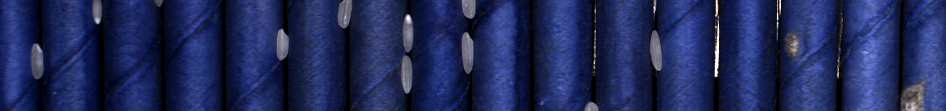broken_grain: (89, 1, 105, 25), (459, 1, 479, 20)
complete_grain: (647, 27, 666, 74), (459, 30, 475, 77), (400, 12, 416, 52), (273, 28, 291, 63), (29, 41, 44, 82), (400, 53, 413, 97), (336, 1, 355, 29)
